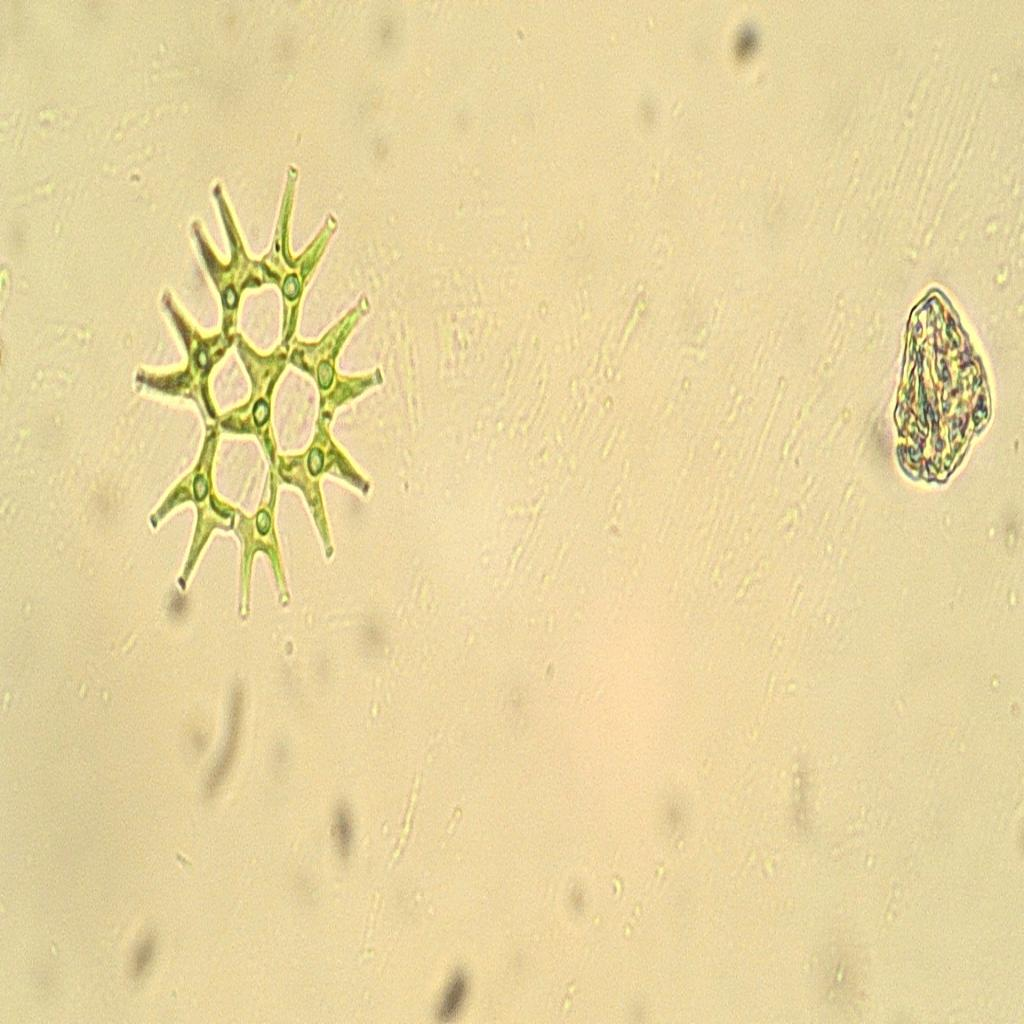Pediastrum_CTH: (124, 146, 391, 636)
